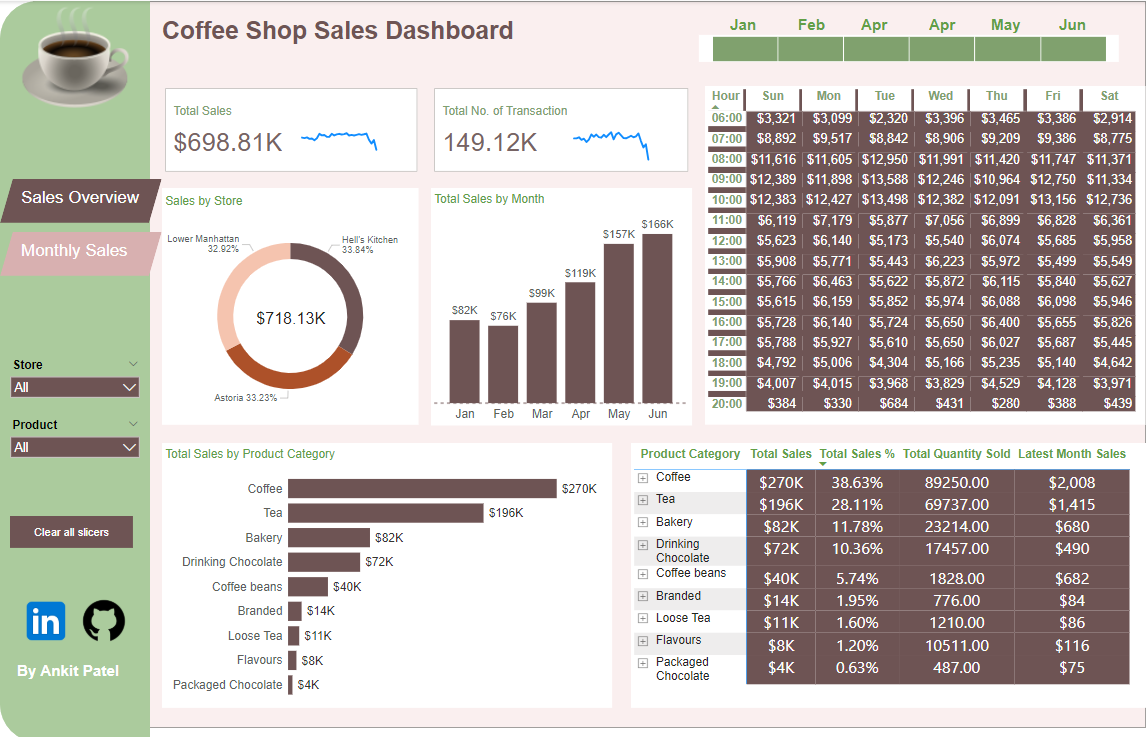

This screenshot's page, from the dashboard's own definition file:
{"tool":"powerbi","page":{"name":"Page 1","canvas":[1800,1200],"ordinal":0},"visuals":[{"type":"shape","box":[51.8,0,1748.2,1141.9],"z":0},{"type":"shape","box":[0,0,235.6,1163.9],"z":1000},{"type":"image","box":[0,0,236.1,187.1],"z":2000},{"type":"cardVisual","fields":{"Data":["Measures Table.Total Sales"]},"box":[254.5,131.9,406.8,141.4],"z":3000},{"type":"lineChart","fields":{"Y":["Measures Table.Total Sales"],"Category":["Calendar date.Day"]},"box":[455.8,187.2,185.7,69.1],"z":4000},{"type":"cardVisual","fields":{"Data":["Measures Table.Total No. of Transaction"]},"box":[677,131.9,409.9,141.4],"z":5000},{"type":"lineChart","fields":{"Category":["Calendar date.Day"],"Y":["Measures Table.Total No. of Transaction"]},"box":[882.4,187.2,185.7,69.1],"z":6000},{"type":"donutChart","title":" Sales by Store","fields":{"Y":["Measures Table.Total Sales"],"Category":["Transactions.store_location"]},"box":[254,294,402.8,372],"z":7000},{"type":"card","fields":{"Values":["Sum(Transactions.Total Sales)"]},"box":[390.1,460.9,134.3,78],"z":8000},{"type":"clusteredColumnChart","title":"Total Sales by Month ","fields":{"Category":["Calendar date.Month Name"],"Y":["Measures Table.Total Sales"]},"box":[676.7,293.1,409.7,372.9],"z":9000},{"type":"pivotTable","fields":{"Columns":["Calendar date.Day Name"],"Values":["Measures Table.Total Sales"],"Rows":["Transactions.Start of Hour"]},"box":[1107.9,133.5,692.1,532.5],"z":10000},{"type":"actionButton","title":"Coffee Shop Sales Dashboard","box":[254.7,24.6,649.1,55.2],"z":11000},{"type":"slicer","fields":{"Values":["Calendar date.Month Name"]},"box":[1097.8,52.6,658.7,41.7],"z":12000},{"type":"actionButton","title":"Jan","box":[1146.8,23.6,76.2,29],"z":13000},{"type":"actionButton","title":"Feb","box":[1253.7,23,75.2,29.2],"z":14000},{"type":"actionButton","title":"Apr","box":[1351.9,23,75.2,29.2],"z":15000},{"type":"actionButton","title":"Jun","box":[1663.9,23.6,74.4,29],"z":16000},{"type":"actionButton","title":"May","box":[1556.9,23.6,74.4,29],"z":17000},{"type":"actionButton","title":"Apr","box":[1458.9,23.6,74.4,29],"z":18000},{"type":"barChart","title":"Total Sales by Product Category","fields":{"Category":["Transactions.product_category"],"Y":["Measures Table.Total Sales"]},"box":[254.5,694.2,706.8,416.2],"z":19000},{"type":"pivotTable","fields":{"Rows":["Transactions.product_category","Transactions.product_type"],"Values":["Measures Table.Total Sales","Measures Table.Total Sales %","Measures Table.Total Quantity Sold","Measures Table.Latest Month Sales"]},"box":[991.1,694.2,808.9,416.2],"z":20000},{"type":"image","box":[26.7,928.3,91.1,91.1],"z":21000},{"type":"image","box":[117.8,928.3,91.1,91.1],"z":22000},{"type":"actionButton","title":"By Ankit Patel","box":[27.2,1037.9,181.5,38.1],"z":23000},{"type":"shape","title":"Sales Overview","box":[0,279.4,254,69],"z":24000},{"type":"actionButton","title":"Sales Overview","box":[32.7,294,208.7,41.7],"z":25000},{"type":"shape","title":"Sales Overview","box":[0,362.9,254,69],"z":26000},{"type":"actionButton","title":"Monthly Sales","box":[32.7,377.4,208.7,41.7],"z":28000},{"type":"slicer","fields":{"Values":["Transactions.store_location"]},"box":[6.3,556,223,86.4],"z":30000},{"type":"slicer","fields":{"Values":["Transactions.product_category"]},"box":[6.3,650.3,223,86.4],"z":31000},{"type":"actionButton","box":[15.7,808.9,193.2,50.3],"z":32000}]}

Visuals, with their boxes on the page's 1800x1200 design canvas (x1, y1, x2, y2). These are canvas units, not pixel positions in the 1146x737 screenshot, which may show the page scaled, cropped or inside an application window:
shape: select_region(52, 0, 1800, 1142)
shape: select_region(0, 0, 236, 1164)
image: select_region(0, 0, 236, 187)
cardVisual - Measures Table.Total Sales: select_region(254, 132, 661, 273)
lineChart - Measures Table.Total Sales x Calendar date.Day: select_region(456, 187, 642, 256)
cardVisual - Measures Table.Total No. of Transaction: select_region(677, 132, 1087, 273)
lineChart - Calendar date.Day x Measures Table.Total No. of Transaction: select_region(882, 187, 1068, 256)
" Sales by Store" donutChart: select_region(254, 294, 657, 666)
card - Sum(Transactions.Total Sales): select_region(390, 461, 524, 539)
"Total Sales by Month " clusteredColumnChart: select_region(677, 293, 1086, 666)
pivotTable - Calendar date.Day Name x Measures Table.Total Sales: select_region(1108, 134, 1800, 666)
"Coffee Shop Sales Dashboard" actionButton: select_region(255, 25, 904, 80)
slicer - Calendar date.Month Name: select_region(1098, 53, 1756, 94)
"Jan" actionButton: select_region(1147, 24, 1223, 53)
"Feb" actionButton: select_region(1254, 23, 1329, 52)
"Apr" actionButton: select_region(1352, 23, 1427, 52)
"Jun" actionButton: select_region(1664, 24, 1738, 53)
"May" actionButton: select_region(1557, 24, 1631, 53)
"Apr" actionButton: select_region(1459, 24, 1533, 53)
"Total Sales by Product Category" barChart: select_region(254, 694, 961, 1110)
pivotTable - Transactions.product_category x Transactions.product_type: select_region(991, 694, 1800, 1110)
image: select_region(27, 928, 118, 1019)
image: select_region(118, 928, 209, 1019)
"By Ankit Patel" actionButton: select_region(27, 1038, 209, 1076)
"Sales Overview" shape: select_region(0, 279, 254, 348)
"Sales Overview" actionButton: select_region(33, 294, 241, 336)
"Sales Overview" shape: select_region(0, 363, 254, 432)
"Monthly Sales" actionButton: select_region(33, 377, 241, 419)
slicer - Transactions.store_location: select_region(6, 556, 229, 642)
slicer - Transactions.product_category: select_region(6, 650, 229, 737)
actionButton: select_region(16, 809, 209, 859)
